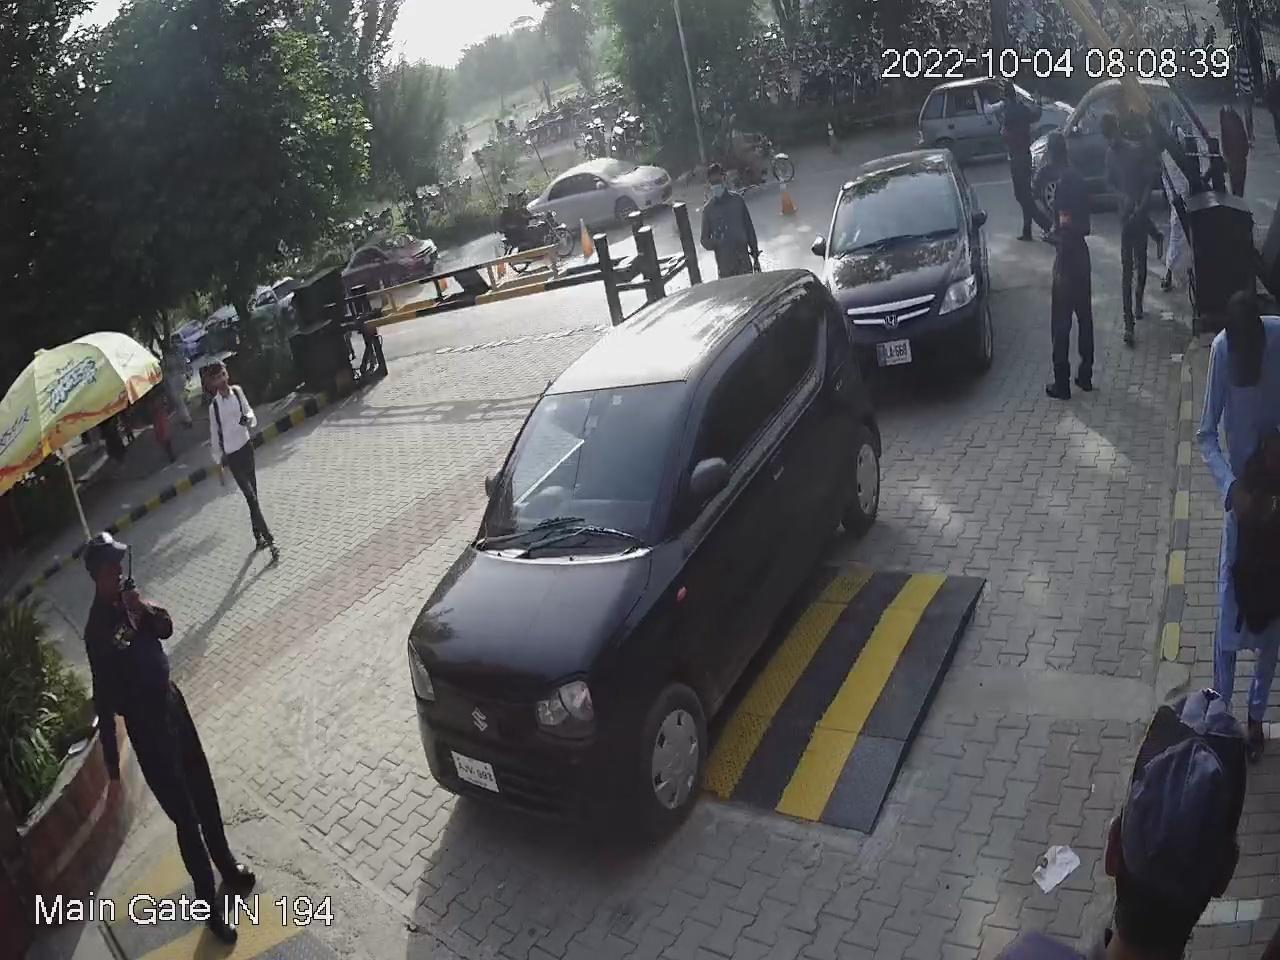windshield: (478, 375, 693, 563)
